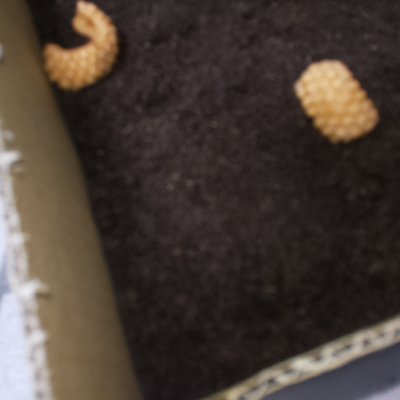eggs: (288, 52, 382, 149), (39, 1, 122, 95)
